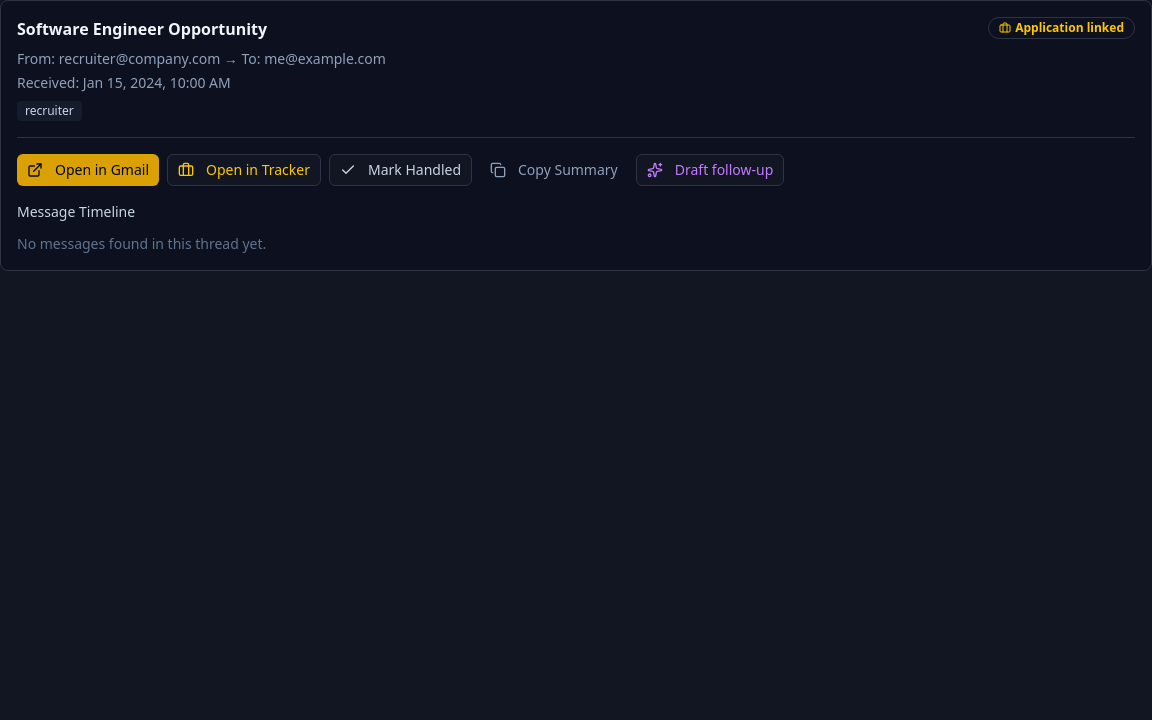
Scenario: ThreadViewer - Follow-up Draft › should clear draft when close button is clicked
# Generate draft
Click the button with test id "thread-viewer-draft-followup" at [710, 170], box left=636, top=154, right=784, bottom=186
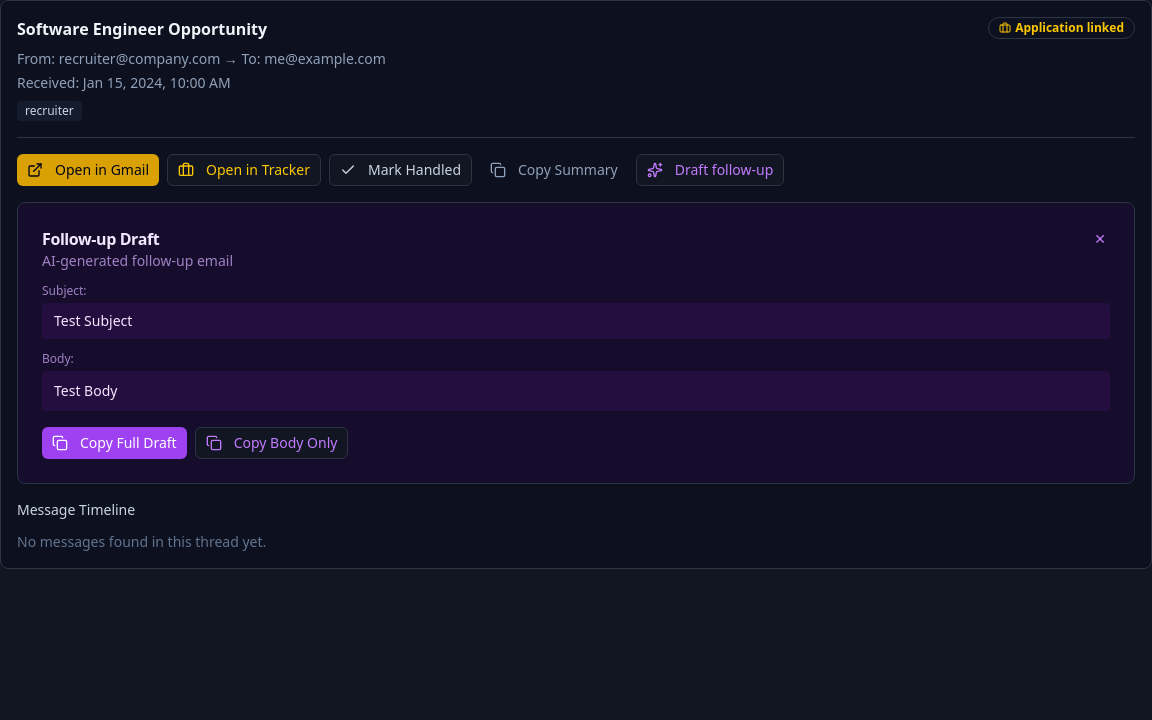
Expected: the text "Follow-up Draft" is shown, left=42, top=228, right=159, bottom=250
# Find and click close button (✕)
Click the button "✕" at [1100, 239], box left=1082, top=223, right=1118, bottom=255
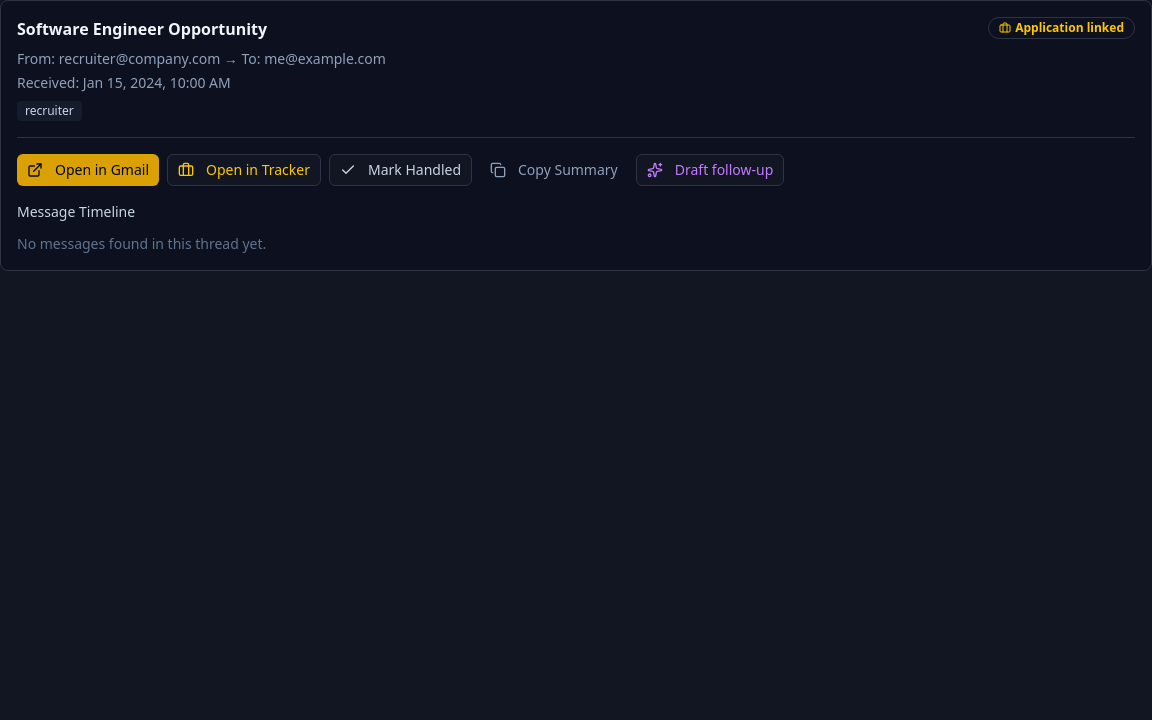
Expected: the text "Follow-up Draft" is gone
